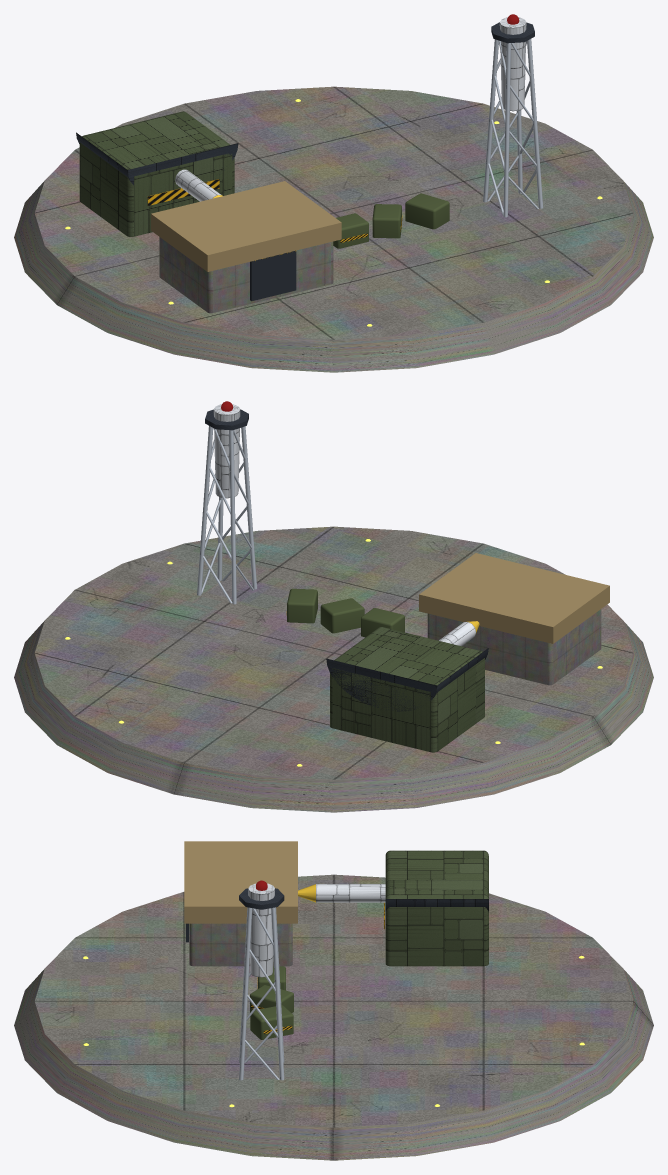
The model's file is ammo-T1.glb.
3 views of the same model, one above another, from view 1: azimuth 30°, elevation 25°; view 2: azimuth 150°, elevation 25°; view 3: azimuth 270°, elevation 25° (orthographic).
Parts seen in each view (by area): view 1: object 1, object 12, object 18, object 17, object 19, object 55, object 13, object 60, object 58, object 56, object 15, object 14 (+1 smaller); view 2: object 1, object 12, object 18, object 17, object 13, object 55, object 58, object 60, object 56; view 3: object 1, object 12, object 18, object 17, object 55, object 15, object 60, object 13, object 58, object 53.
Boxes of the visible parts, x1,y1,x2,y2 form: object 1: (14, 86, 653, 372); object 12: (79, 111, 234, 236); object 18: (151, 181, 341, 271); object 17: (159, 237, 333, 313); object 19: (250, 251, 296, 301); object 55: (499, 17, 526, 111); object 13: (76, 132, 238, 185); object 60: (405, 193, 449, 229); object 58: (372, 204, 401, 238); object 56: (333, 213, 368, 248); object 15: (175, 169, 221, 201); object 14: (147, 179, 219, 205); object 1: (14, 526, 653, 812); object 12: (330, 627, 484, 752); object 18: (419, 553, 609, 643); object 17: (427, 609, 601, 685); object 13: (326, 648, 488, 711); object 55: (213, 404, 240, 498); object 58: (320, 598, 364, 633); object 60: (287, 588, 317, 623); object 56: (361, 608, 404, 637); object 1: (14, 874, 653, 1160); object 12: (385, 850, 488, 966); object 18: (184, 841, 297, 923); object 17: (189, 923, 292, 966); object 55: (248, 883, 274, 977); object 15: (316, 884, 385, 902); object 60: (250, 1005, 293, 1039); object 13: (385, 899, 488, 912); object 58: (250, 985, 293, 1013); object 53: (239, 888, 284, 909).
Bounding box in the file's own units: 6.2 × 2.29 × 6.2.
Materials: 13 (6 with a texture image).
